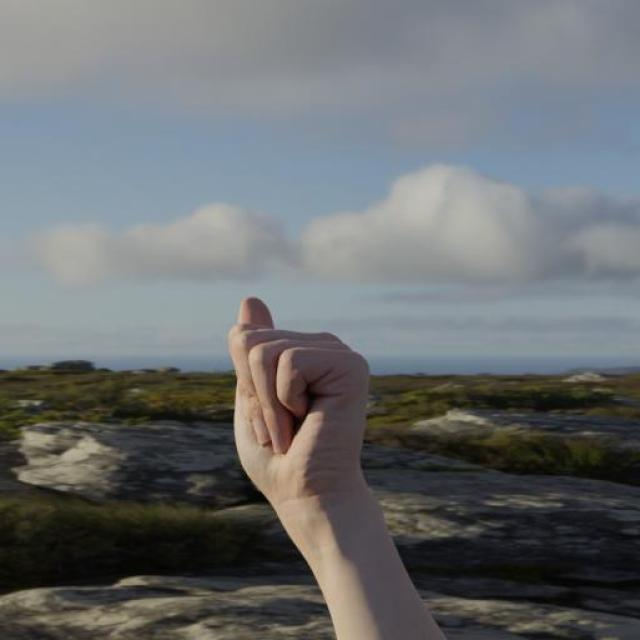A: (225, 288, 375, 501)
